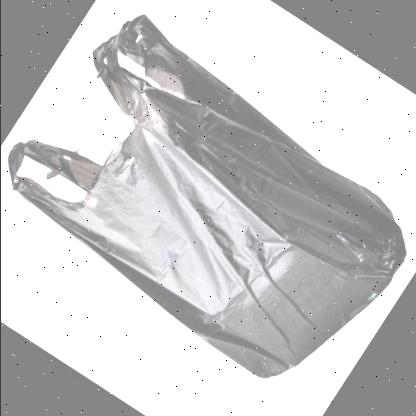Others: (8, 14, 408, 380)
